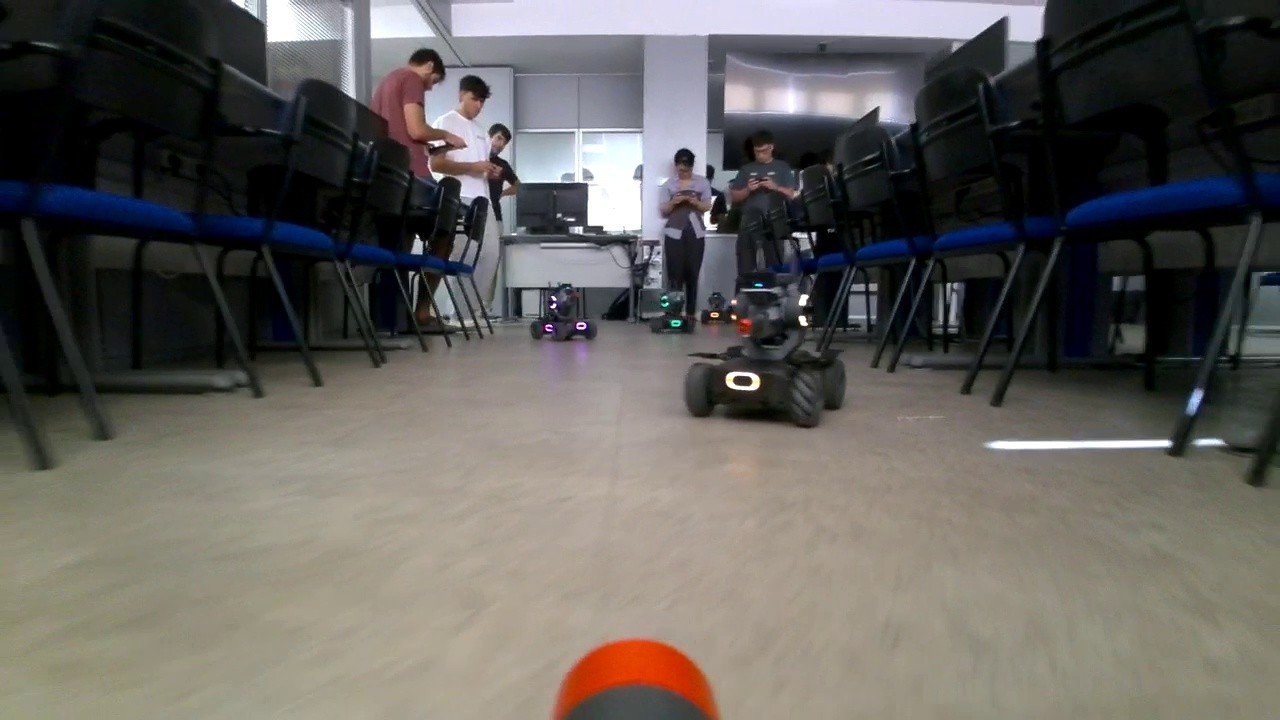robot: (684, 273, 850, 428), (532, 282, 595, 342), (650, 285, 698, 334), (700, 289, 731, 325)
